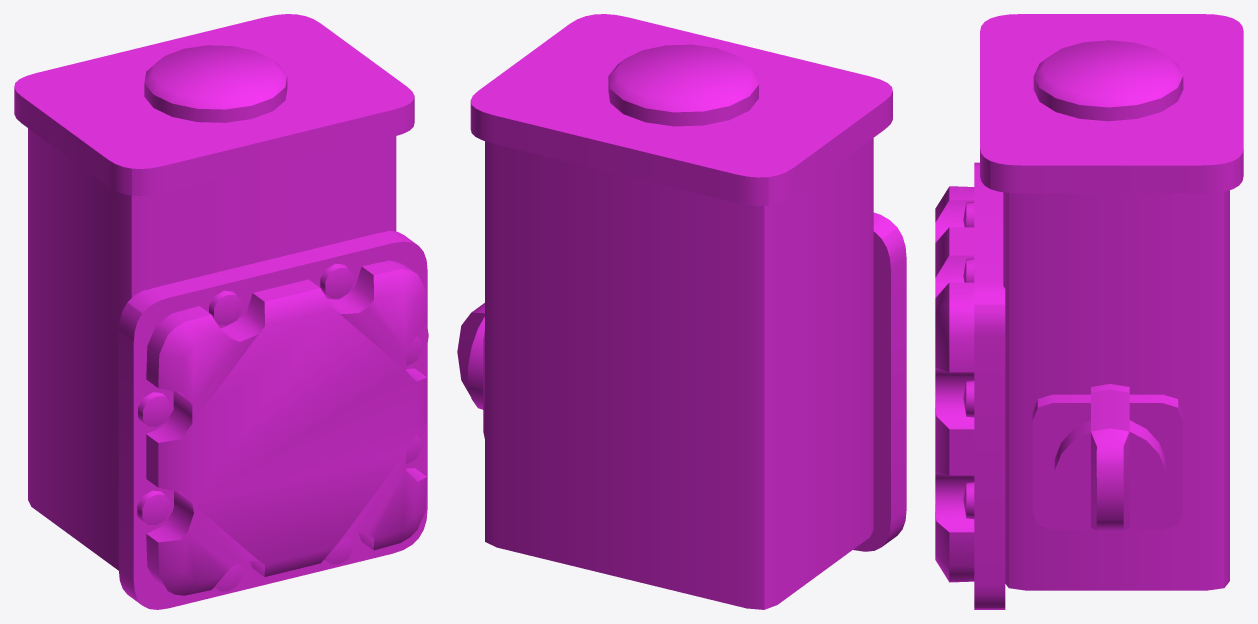
File: SM_ElectricSwitch.FBX
The picture shows the model from 3 angles, left to right: view 1: azimuth 30°, elevation 25°; view 2: azimuth 150°, elevation 25°; view 3: azimuth 270°, elevation 25°; orthographic projection. The views are drawn at different scales.
Visible parts, largest first — view 1: FuseSwitch; view 2: FuseSwitch; view 3: FuseSwitch.
Part boxes in pixels (x1,y1,x2,y2): FuseSwitch: (14,14,428,609); FuseSwitch: (457,14,906,609); FuseSwitch: (935,14,1243,609).
Bounding box in the file's own units: 26.12 × 32.31 × 18.84.
